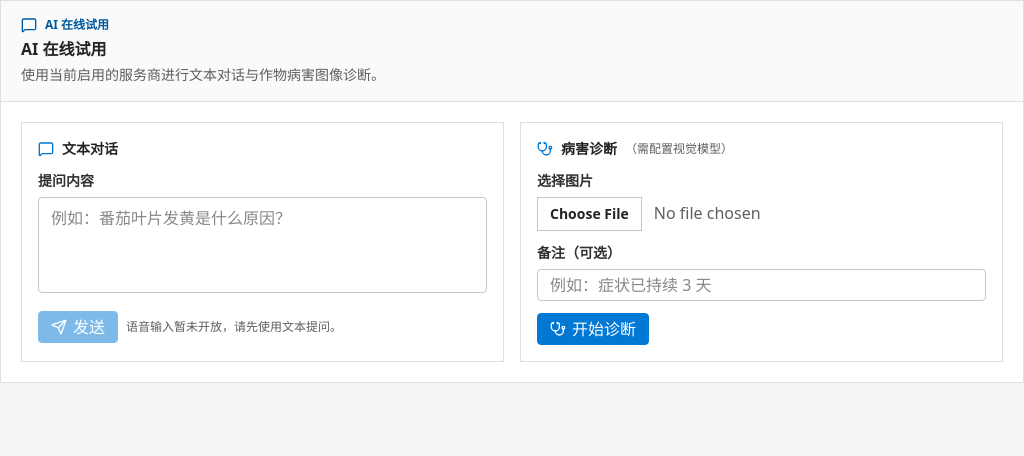
Scenario: AiPlayground production actions › sends trimmed chat text to the real chat API wrapper and renders the answer
Type "  叶片发黄怎么办  " into the text box with placeholder "例如：番茄叶片发黄是什么原因？" at (262, 245), box [38,197,487,293]
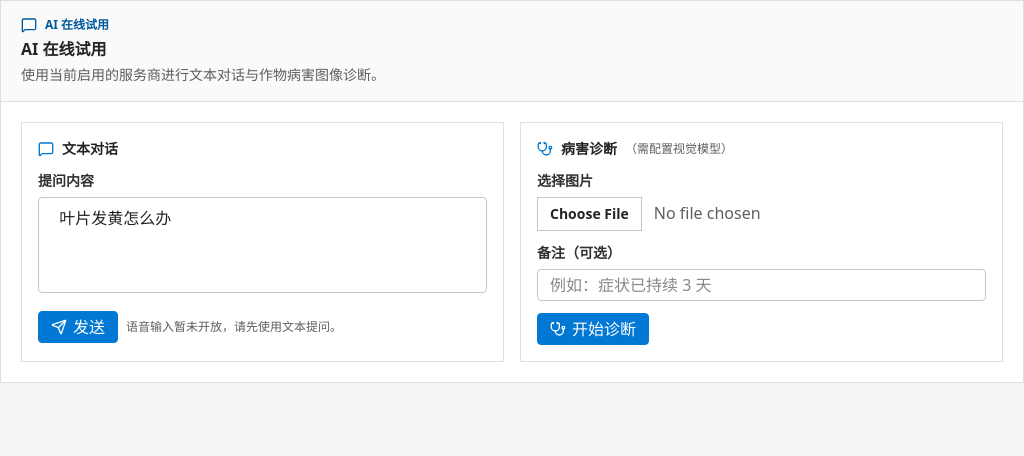
Click the button "发送" at (78, 327), box [38,311,118,343]
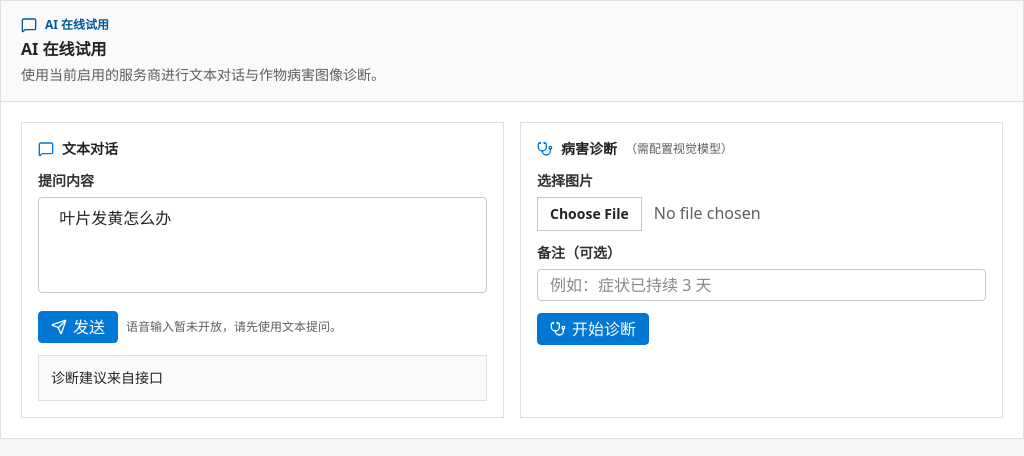
Expected: the text "诊断建议来自接口" is shown, [38,355,487,401]
